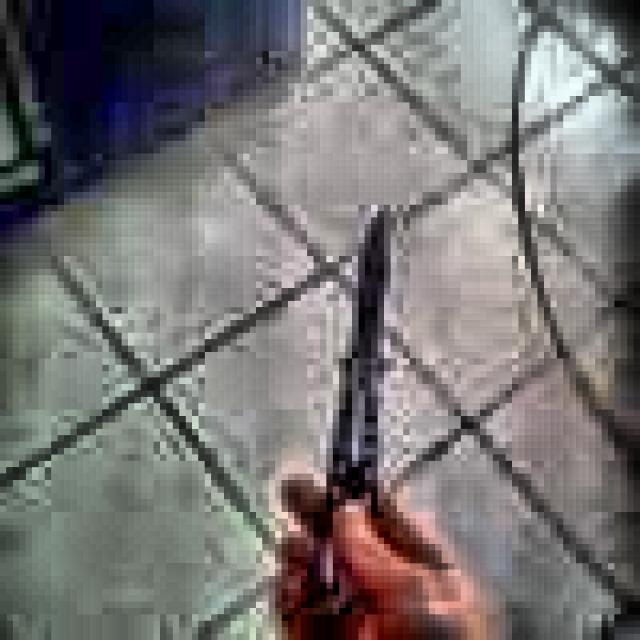knife: (320, 213, 392, 634)
